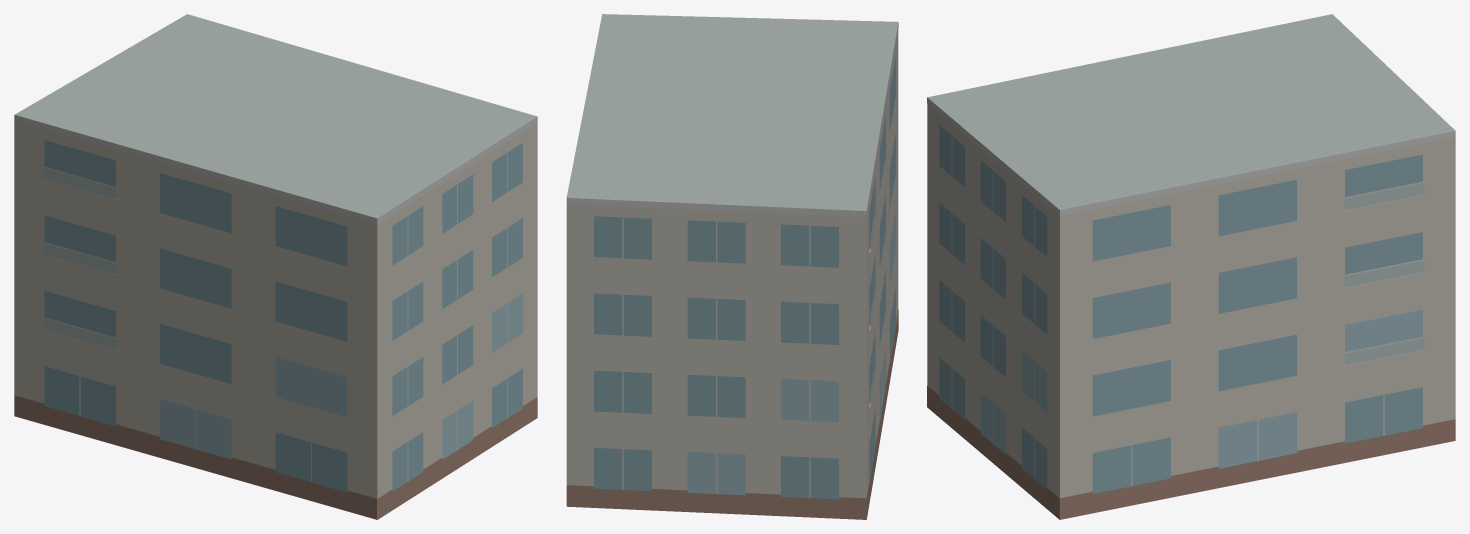
Rendered from survey-upis-32976938.glb.
3 views of the same model, side by side, from view 1: azimuth 30°, elevation 25°; view 2: azimuth 150°, elevation 25°; view 3: azimuth 270°, elevation 25° (orthographic). The views are drawn at different scales.
Visible parts, largest first — view 1: survey-upis-32976938.tmp; view 2: survey-upis-32976938.tmp; view 3: survey-upis-32976938.tmp.
Part boxes in pixels (left/top/right/bottom): survey-upis-32976938.tmp: left=14, top=14, right=537, bottom=519; survey-upis-32976938.tmp: left=566, top=14, right=898, bottom=519; survey-upis-32976938.tmp: left=927, top=14, right=1455, bottom=519.
Size of the model in its own units: 16.56 by 12.2 by 18.87.
